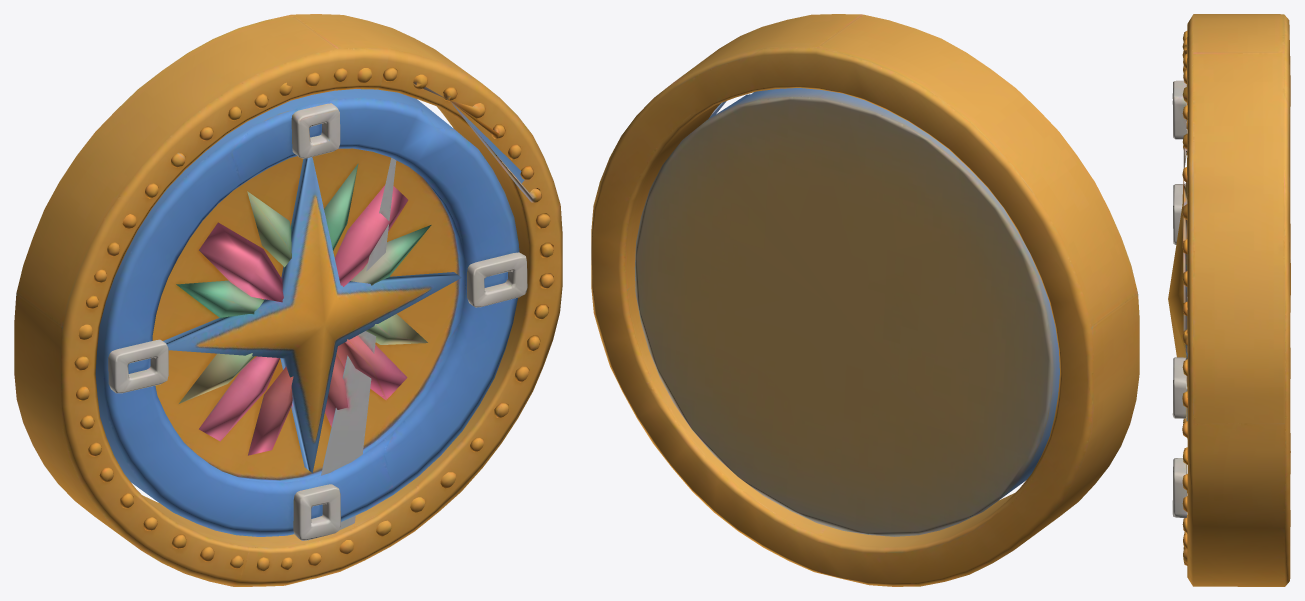
File: guide-compass-plaque.glb
3 renders of one model, left to right at view 1: azimuth 30°, elevation 25°; view 2: azimuth 150°, elevation 25°; view 3: azimuth 270°, elevation 25°, orthographic.
Parts seen in each view (by area): view 1: geometry_0; view 2: geometry_0; view 3: geometry_0.
Part boxes in pixels (x1=…): geometry_0: x1=14, y1=14, x2=562, y2=586; geometry_0: x1=591, y1=14, x2=1139, y2=586; geometry_0: x1=1168, y1=14, x2=1290, y2=586.
Bounding box in the file's own units: 1 × 1 × 0.2142.
Materials: 1 (1 with a texture image).
